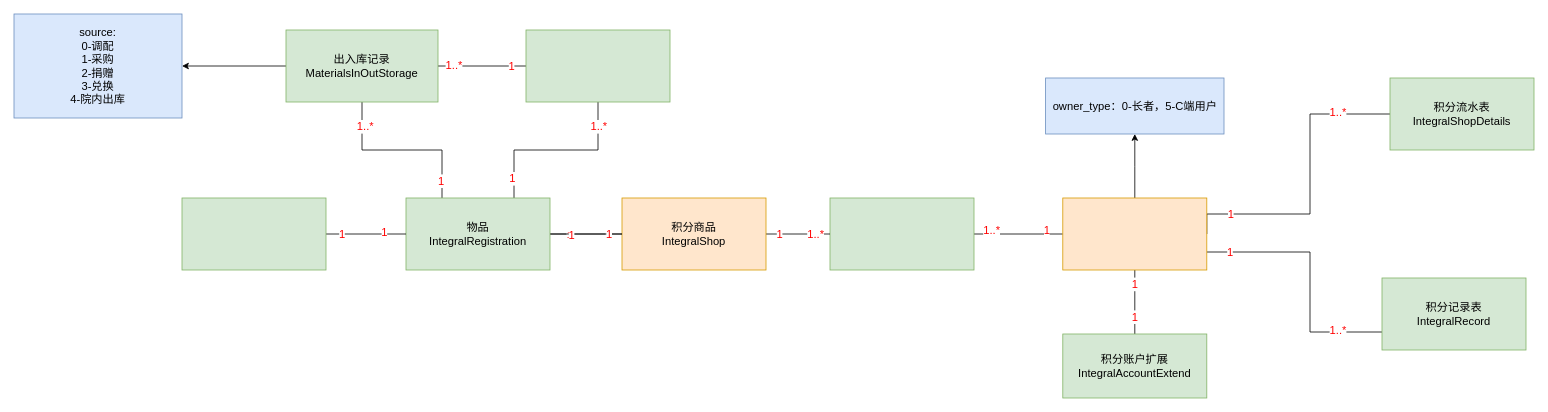
The diagram is 1548 pixels wide and 412 high, and some of its shapes have lost their labels. Each missing label, with the centre of its shape:
库存 IntegralInvertoty: (253,233)
积分订单 IntegralShopOrder: (901,233)
积分账户 NewAccount: (1134,233)
调配记录 MaterialsDeployment: (597,65)
